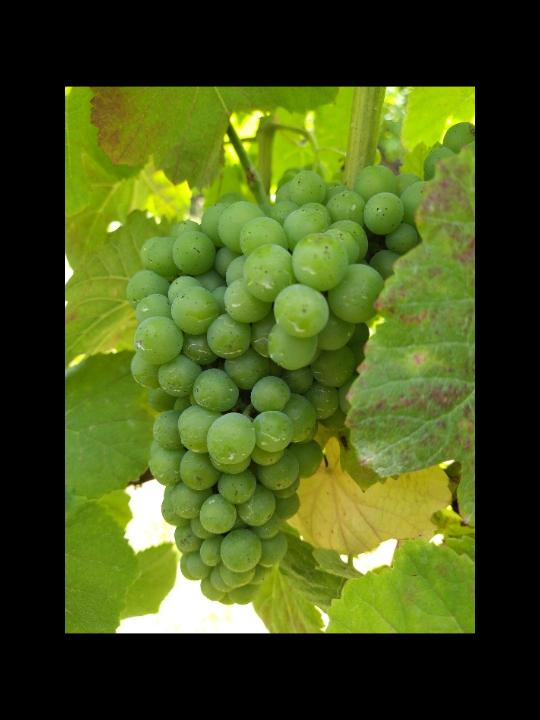grape: (123, 166, 431, 610)
